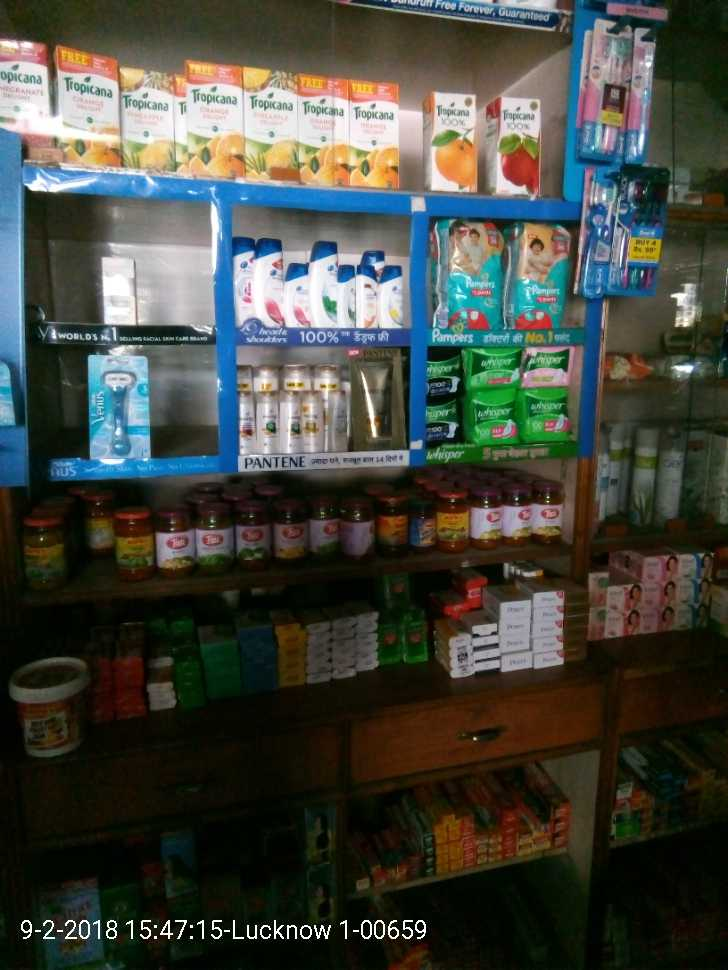venus: (90, 357, 153, 457)
